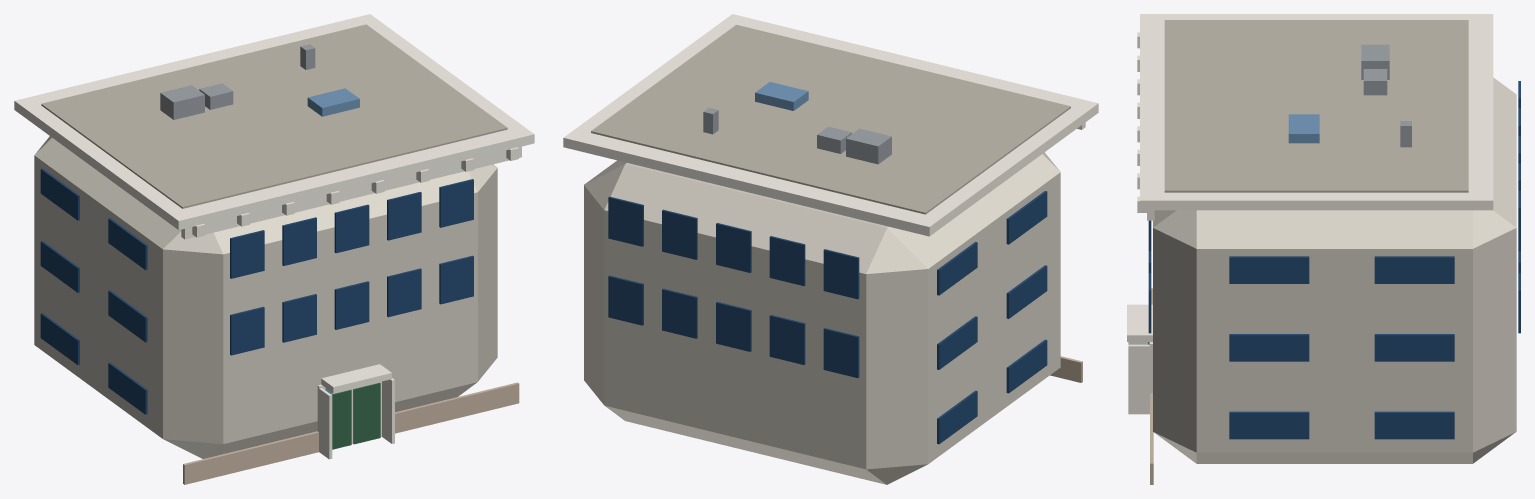
The model's file is apt_w16_f3_punched.glb.
3 renders of one model, left to right at view 1: azimuth 30°, elevation 25°; view 2: azimuth 150°, elevation 25°; view 3: azimuth 270°, elevation 25°, orthographic. The views are drawn at different scales.
Parts seen in each view (by area): view 1: walls, roofslab, corn, bsmt, frieze, door.001, win.002, win.007, win.005, win, win.003, win.004 (+17 smaller); view 2: walls, roofslab, corn, win.010, win.015, win.016, win.011, win.013, win.019, win.012, win.014, win.017 (+11 smaller); view 3: walls, roofslab, corn, sb.001, sb.003, sb.005, sb.007, sb.009, sb.011, cpost.001, skylt, canopy (+2 smaller).
Part boxes in pixels (x1,y1,x2,y2): walls: (34, 136, 497, 458); roofslab: (41, 24, 507, 208); corn: (14, 14, 534, 229); bsmt: (183, 382, 519, 484); frieze: (181, 146, 521, 239); door.001: (353, 382, 380, 444); win.002: (334, 281, 369, 329); win.007: (334, 204, 369, 253); win.005: (230, 230, 264, 278); win: (230, 306, 264, 355); win.003: (387, 268, 421, 317); win.004: (439, 255, 473, 304); walls: (584, 152, 1060, 484); roofslab: (591, 24, 1070, 214); corn: (563, 14, 1098, 236); win.010: (823, 328, 859, 378); win.015: (823, 249, 859, 299); win.016: (769, 236, 805, 285); win.011: (769, 315, 805, 364); win.013: (662, 288, 697, 338); win.019: (608, 196, 643, 246); win.012: (716, 301, 751, 351); win.014: (608, 275, 643, 325); win.017: (716, 223, 751, 272); walls: (1153, 77, 1516, 463); roofslab: (1164, 20, 1468, 192); corn: (1140, 14, 1493, 210); sb.001: (1229, 411, 1309, 439); sb.003: (1374, 411, 1454, 439); sb.005: (1229, 334, 1309, 361); sb.007: (1374, 334, 1454, 361); sb.009: (1229, 256, 1309, 283); sb.011: (1374, 256, 1454, 283); cpost.001: (1128, 344, 1149, 414); skylt: (1288, 114, 1319, 143); canopy: (1127, 304, 1152, 341).
Bounding box in the file's own units: 17 × 13.3 × 15.17.
